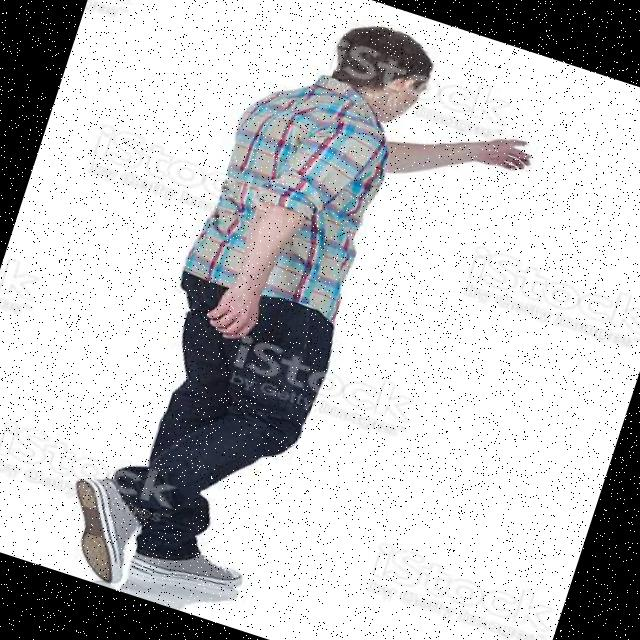Person: (48, 0, 556, 640)
